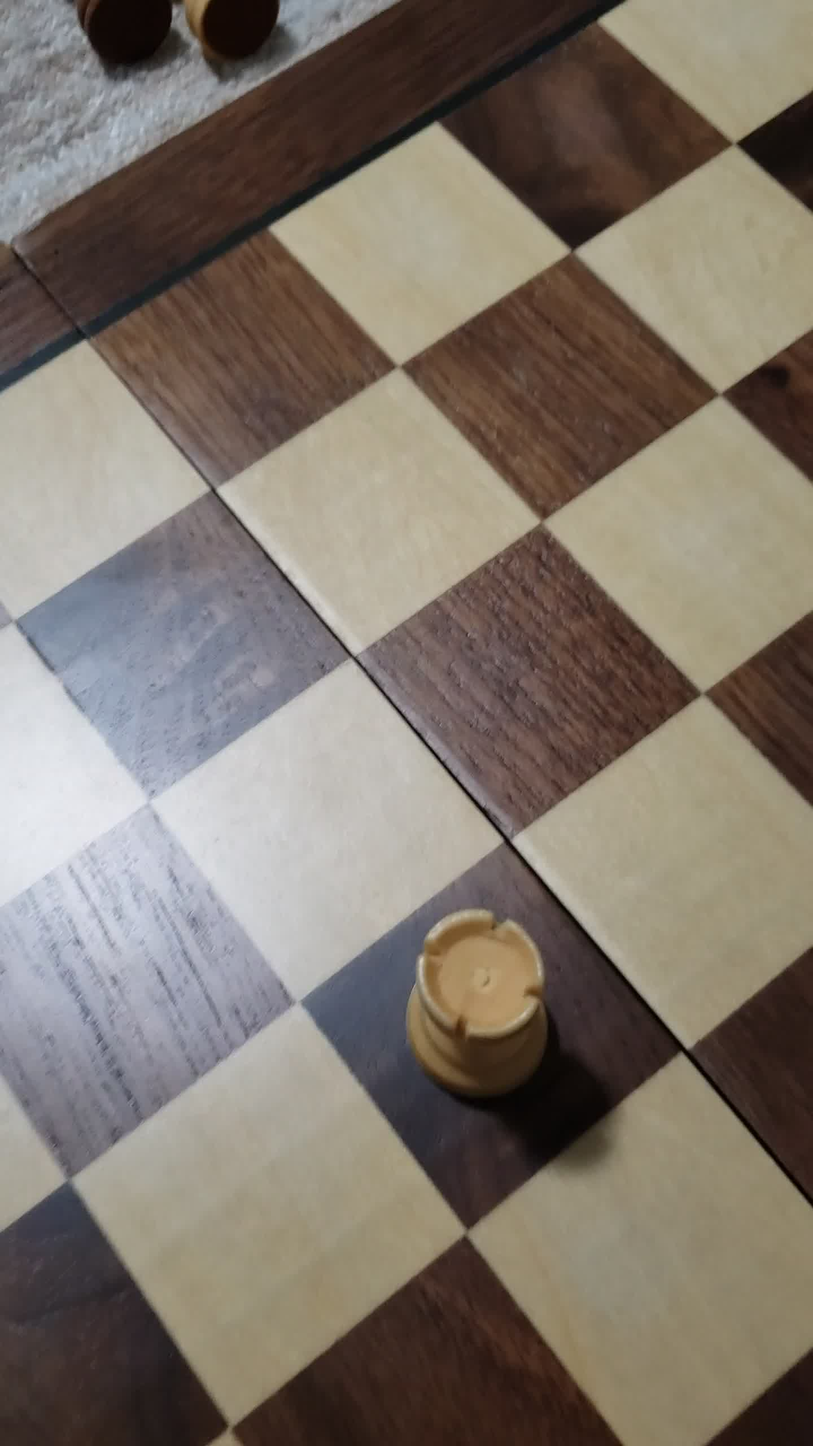white-rook: (378, 887, 589, 1114)
